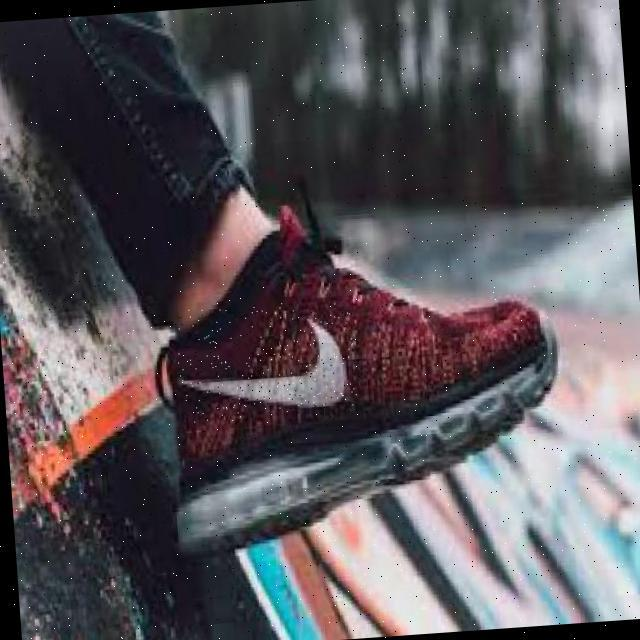Nike: (173, 298, 358, 424)
